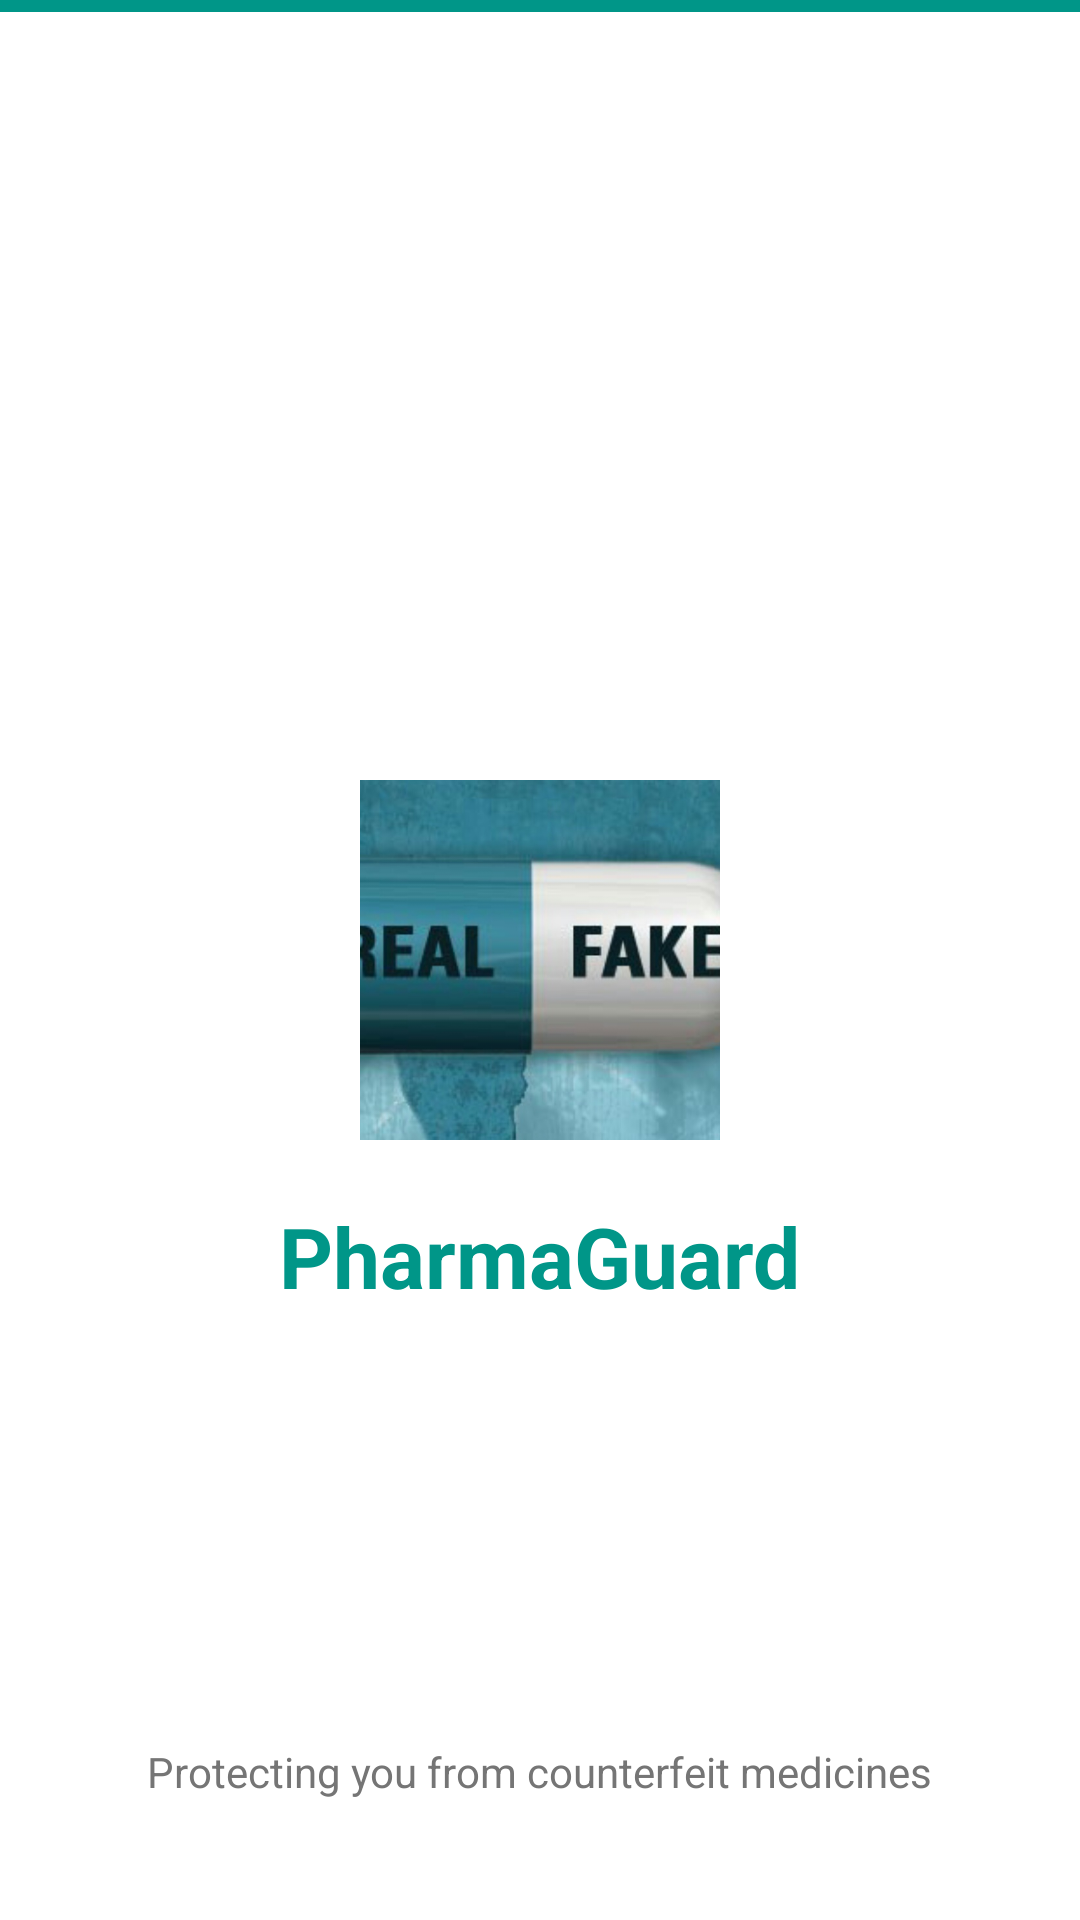

Named icons in this screenshot (1080×1920) and their bounding boxes, (x1, y1, x2, y2):
fake medicine: (360, 780, 720, 1140)
